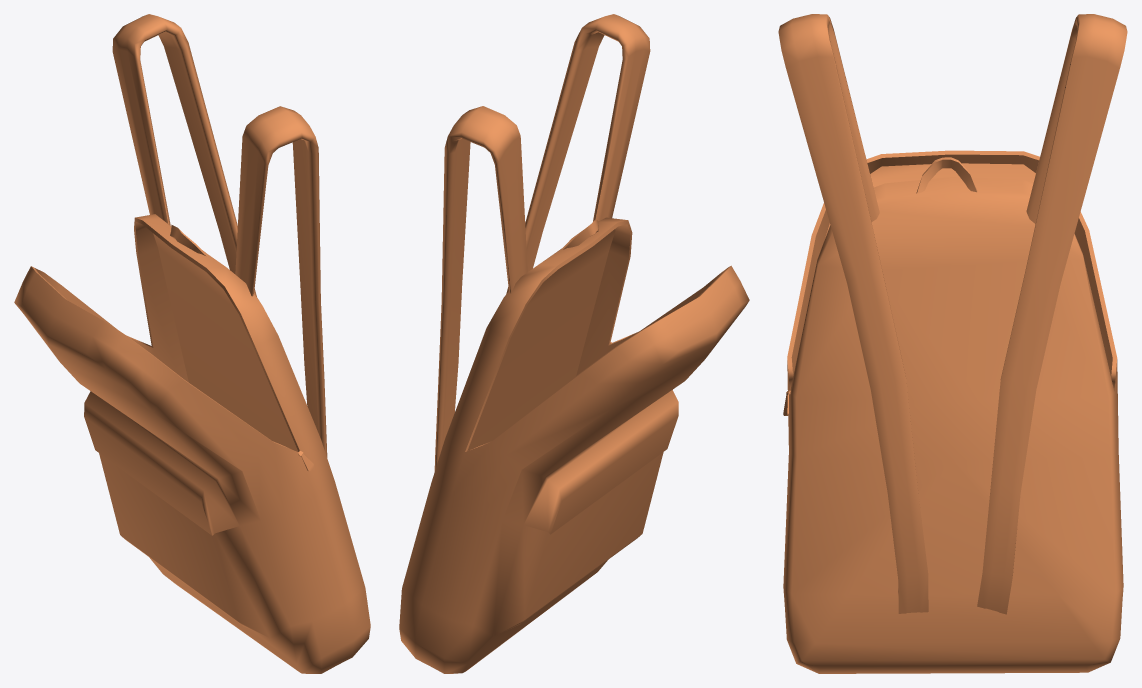
Rendered from Mochila 2.fbx.
3 views of the same model, side by side, from view 1: azimuth 30°, elevation 25°; view 2: azimuth 150°, elevation 25°; view 3: azimuth 270°, elevation 25° (orthographic). The views are drawn at different scales.
Visible parts, largest first — view 1: Mochila_2; view 2: Mochila_2; view 3: Mochila_2.
Part boxes in pixels (x1,y1,x2,y2): Mochila_2: (14,14,370,673); Mochila_2: (399,14,749,673); Mochila_2: (778,14,1127,673).
Size of the model in its own units: 0.2883 by 0.6162 by 0.3087.
